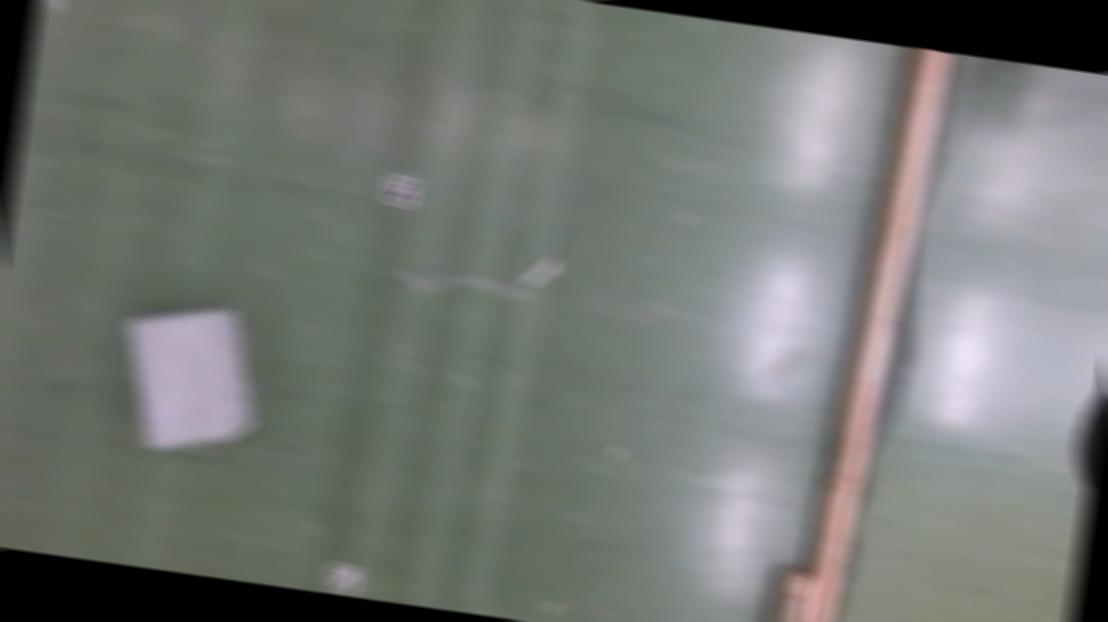probes: (522, 251, 560, 291), (34, 0, 69, 12)
rako: (109, 290, 270, 463)
